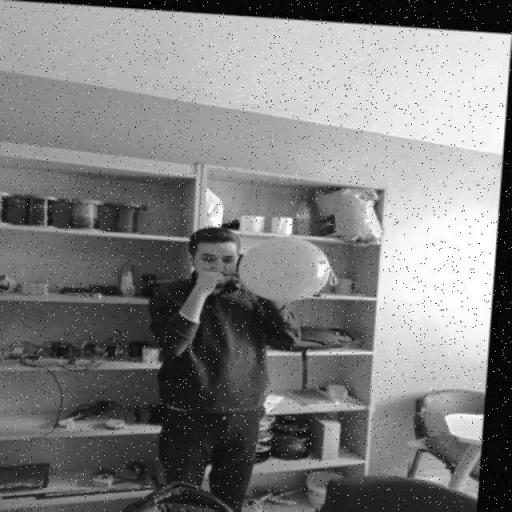balloon: (242, 230, 336, 301)
